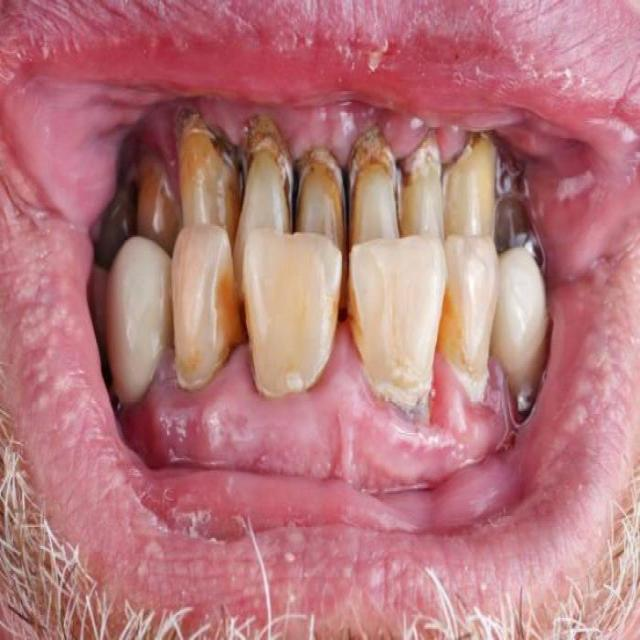CALCULUS: (251, 123, 304, 182), (213, 283, 257, 354), (442, 293, 469, 363), (184, 126, 218, 180), (352, 144, 388, 183), (309, 160, 339, 203), (487, 136, 508, 179)
